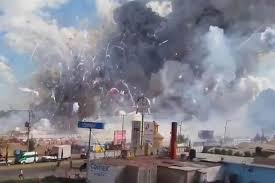smoke: (24, 1, 275, 112)
